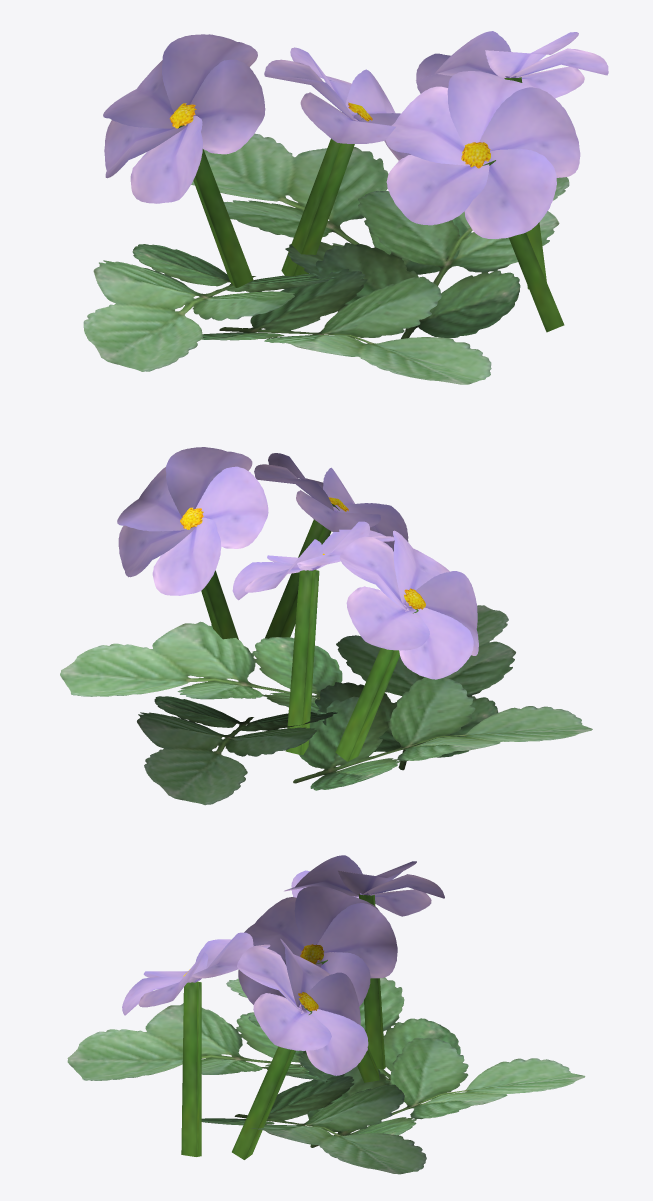
File: indigof3.obj
3 renders of one model, top to bottom at view 1: azimuth 30°, elevation 25°; view 2: azimuth 150°, elevation 25°; view 3: azimuth 270°, elevation 25°, orthographic. The views are drawn at different scales.
Parts seen in each view (by area): view 1: indigof03; view 2: indigof03; view 3: indigof03.
Boxes of the visible parts, box(x1,y1,x2,y2) form: indigof03: box(83, 31, 608, 384); indigof03: box(60, 447, 592, 805); indigof03: box(67, 855, 585, 1174).
Bounding box in the file's own units: 34.18 × 13.77 × 33.6.
2 materials, 2 textured.
